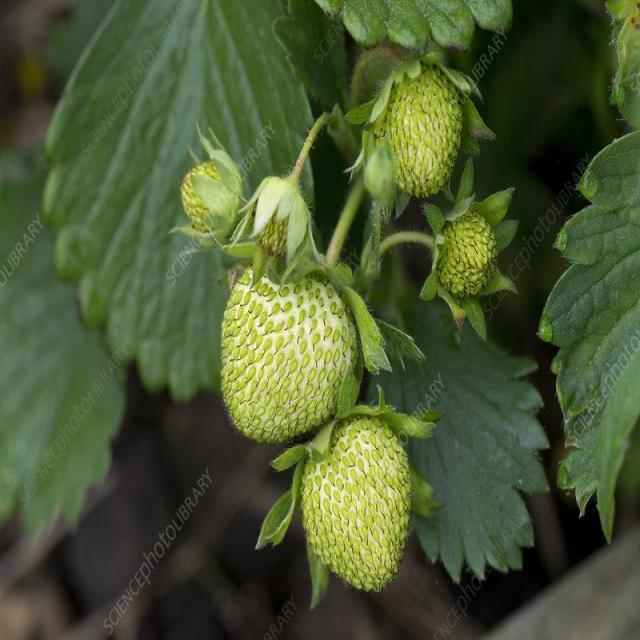Strawberry: (224, 264, 358, 440), (301, 418, 412, 594), (382, 66, 462, 195), (436, 207, 497, 295), (181, 162, 239, 238), (256, 196, 295, 254)
